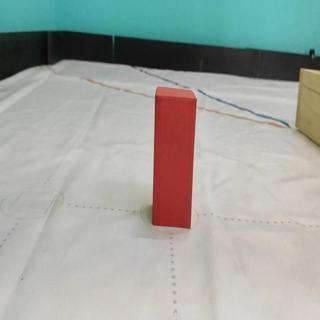redbox: (153, 85, 196, 230)
